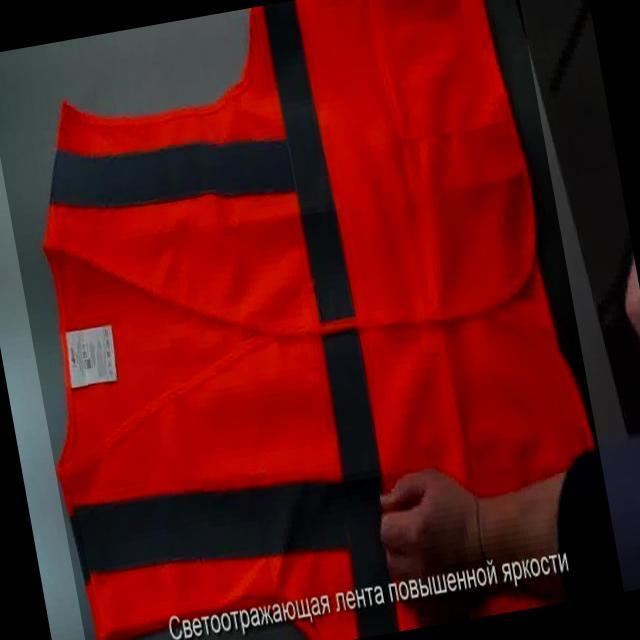Safety Vest: (0, 0, 624, 640)
